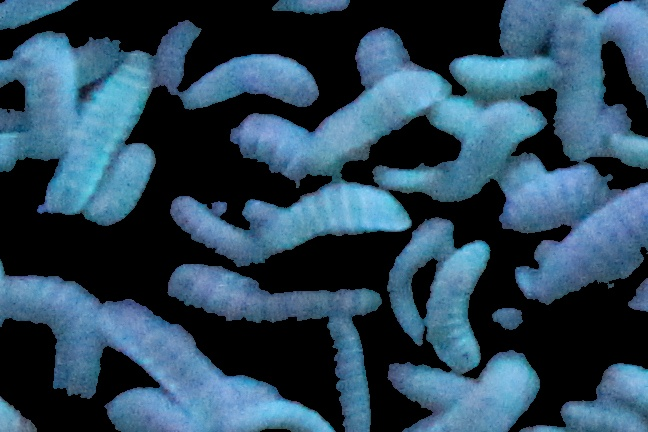larvae: (100, 299, 247, 421), (46, 48, 150, 219), (163, 255, 384, 329), (308, 66, 443, 176), (1, 268, 104, 398), (538, 180, 646, 290), (258, 185, 412, 260), (440, 93, 547, 192), (371, 205, 442, 342), (11, 32, 82, 157), (182, 54, 327, 114), (551, 10, 609, 153), (439, 352, 540, 432), (496, 153, 607, 219), (427, 241, 484, 366), (444, 45, 562, 102), (232, 105, 314, 179), (87, 141, 153, 228), (327, 322, 376, 432), (597, 2, 648, 98), (498, 1, 584, 56), (386, 362, 472, 412), (344, 26, 412, 86), (560, 393, 645, 432), (255, 392, 331, 432), (422, 89, 479, 139), (598, 358, 648, 403), (607, 121, 648, 168), (227, 1, 355, 16)
